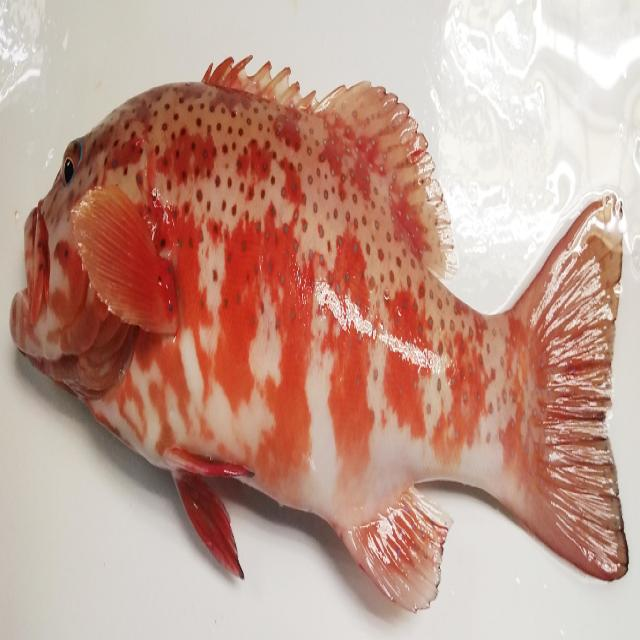Plectropomus-leopardus: (7, 41, 634, 623)
